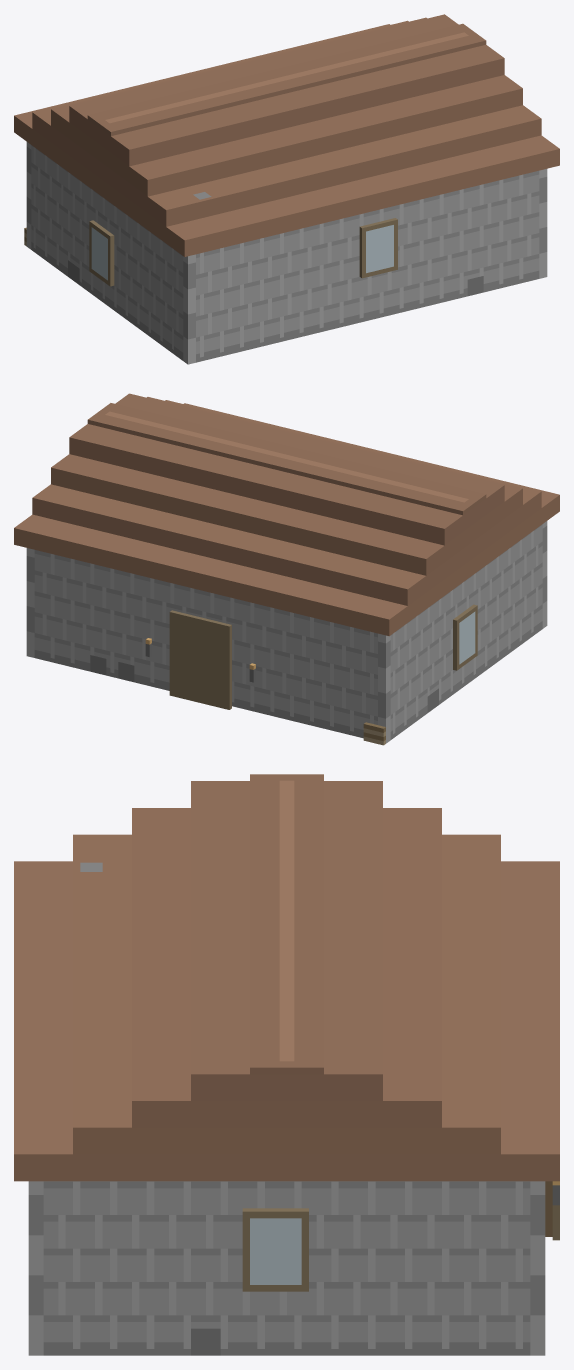
File: vidrieria_03.glb
3 views of the same model, one above another, from view 1: azimuth 30°, elevation 25°; view 2: azimuth 150°, elevation 25°; view 3: azimuth 270°, elevation 25° (orthographic). The views are drawn at different scales.
Visible parts, largest first — view 1: vidrieria_03; view 2: vidrieria_03; view 3: vidrieria_03.
Boxes of the visible parts, left/top/right/bottom form: vidrieria_03: left=14, top=14, right=559, bottom=364; vidrieria_03: left=14, top=393, right=559, bottom=745; vidrieria_03: left=14, top=774, right=559, bottom=1355.
Bounding box in the file's own units: 9.4 × 4.4 × 7.4.
